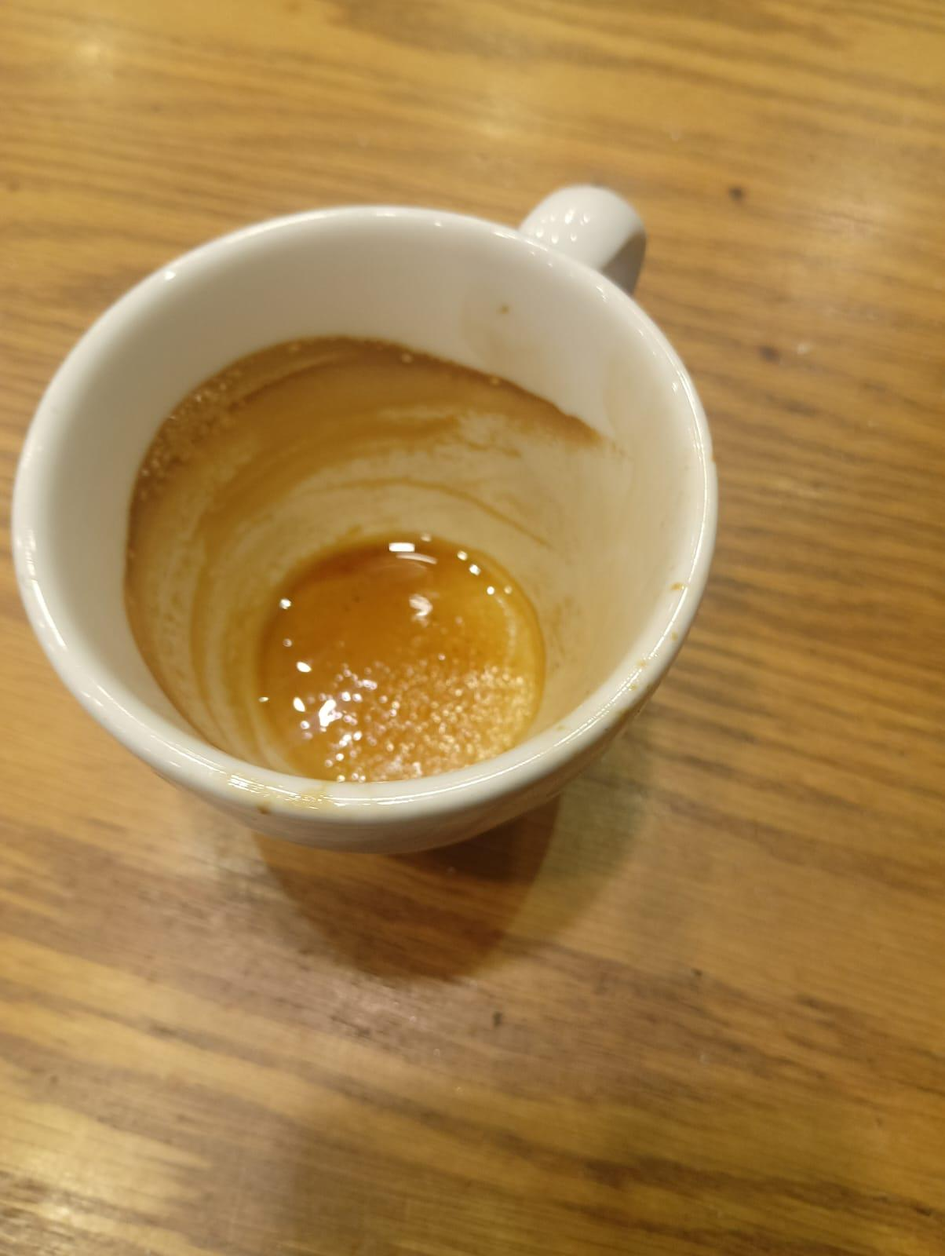cup: (13, 187, 716, 851), (245, 534, 545, 783)
